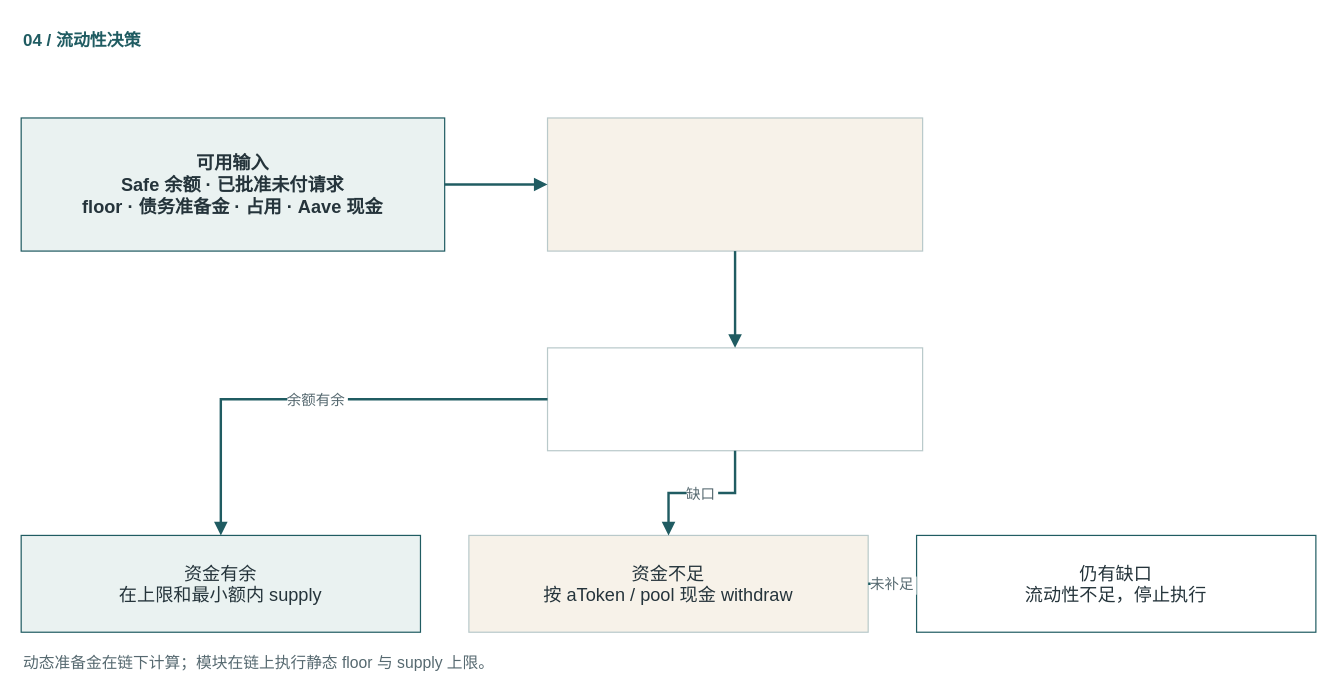
Some shapes in this 1337 by 695 pixel diagram are drawn without their labels. The shapes that lost their labels are listed below. From the top down, each one's centre as x and y in pixels, then its label:
point (734, 184): 必需 Safe 准备金 付款 + floor + 债务 + 占用
point (734, 399): 比较 Safe 余额 与必需准备金
